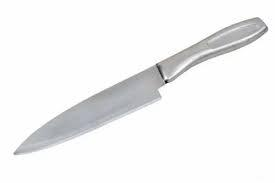Knife: (12, 15, 268, 155)
